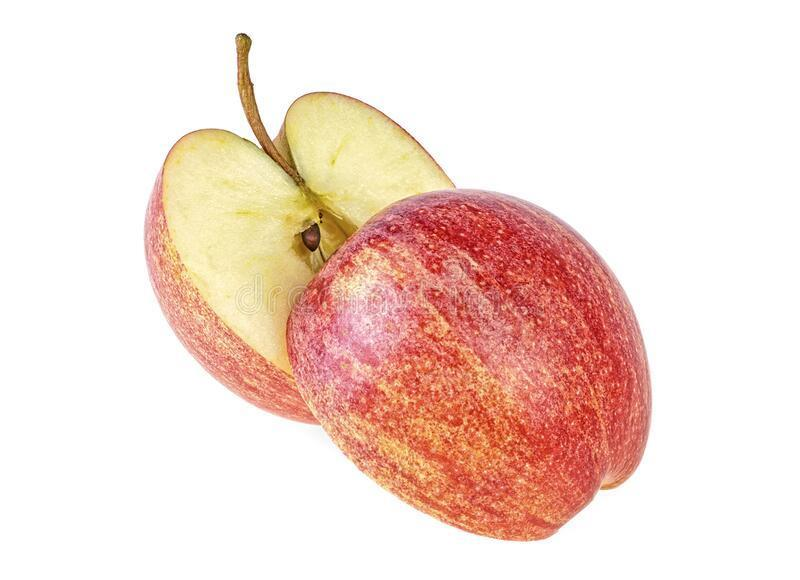apple: (132, 44, 660, 551)
